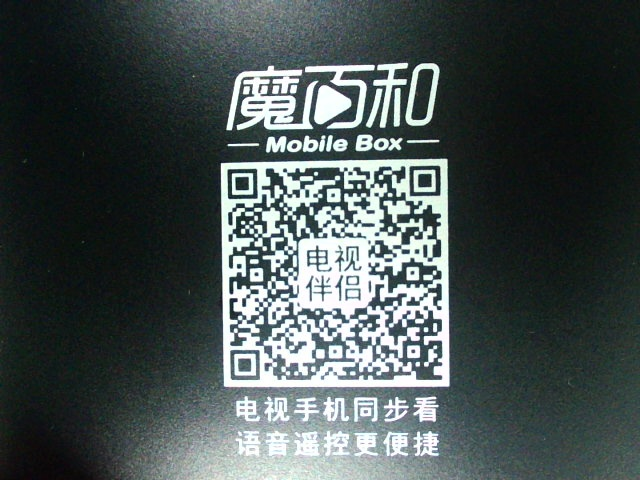AZ_MobileBox: (199, 51, 463, 461)
